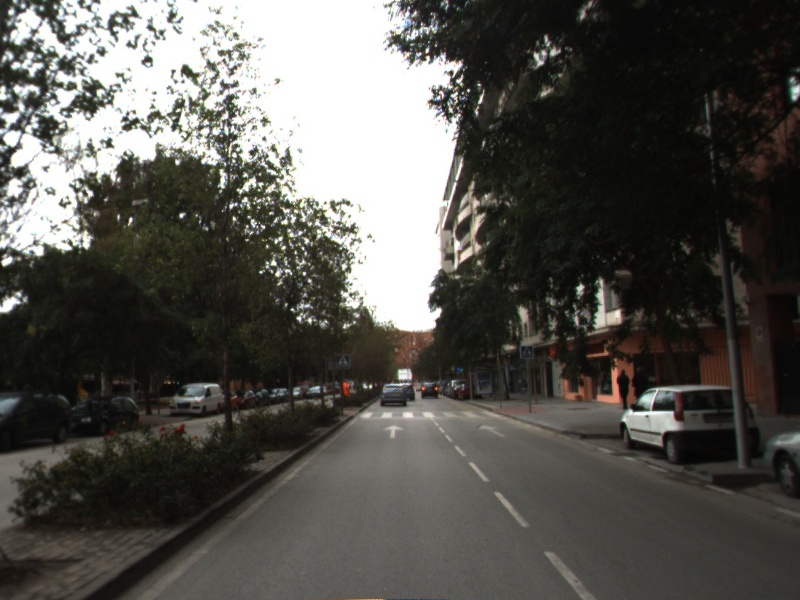STRAIGHT: (476, 422, 509, 439), (381, 423, 406, 440)
